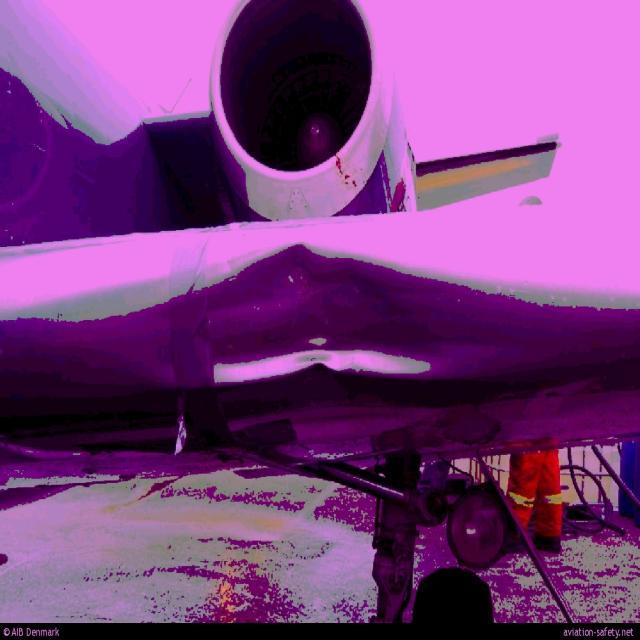dent: (155, 263, 491, 387)
